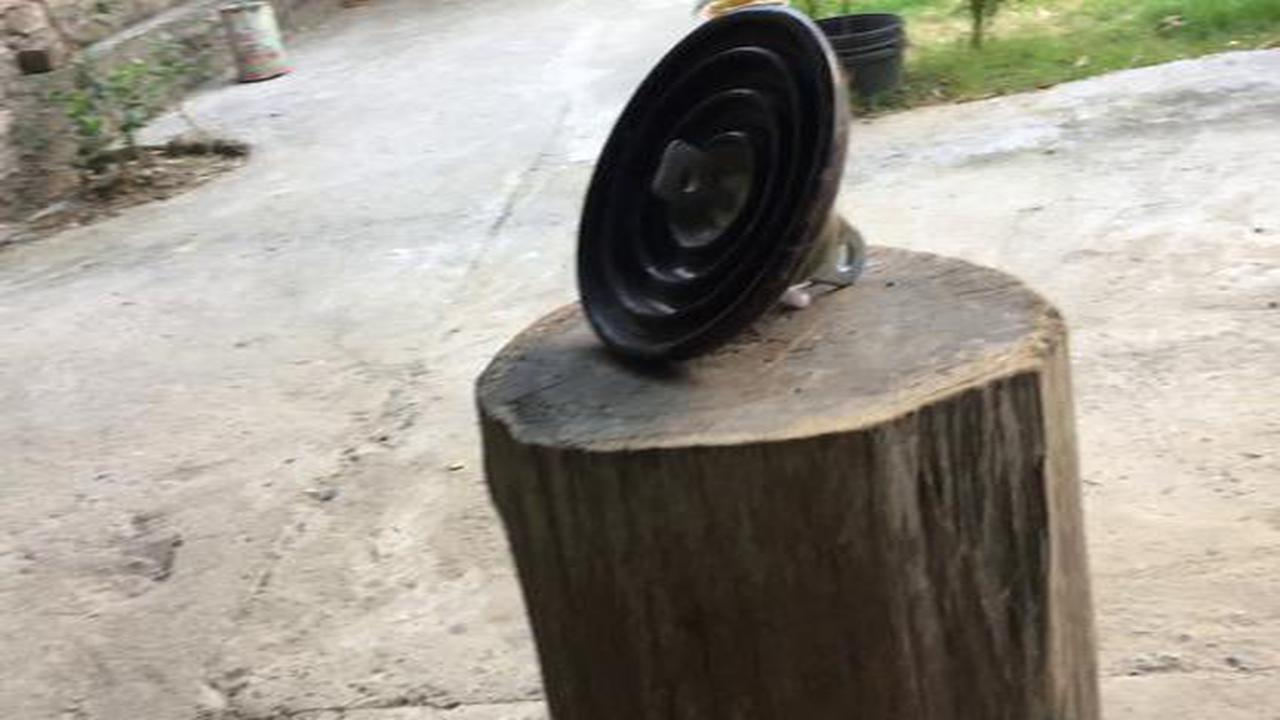insulator_disc: (576, 9, 874, 370)
